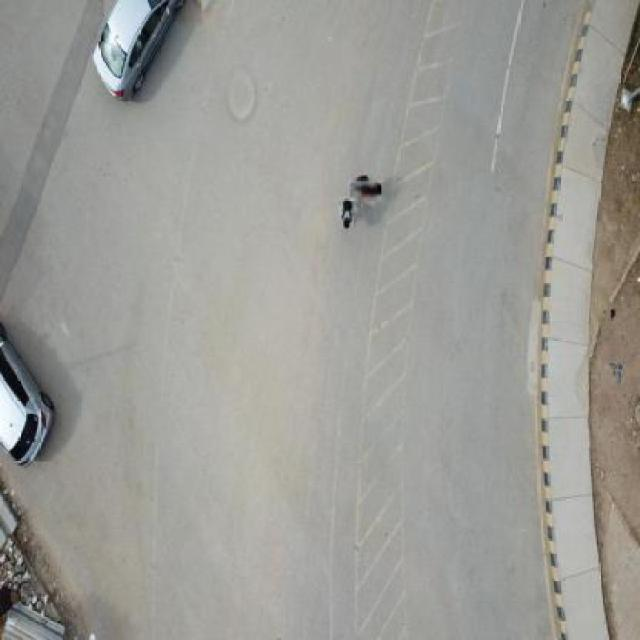Person: (352, 178, 379, 205), (338, 198, 356, 230)
